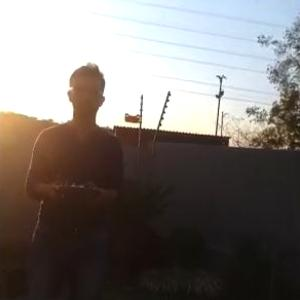follow: (19, 48, 132, 299)
